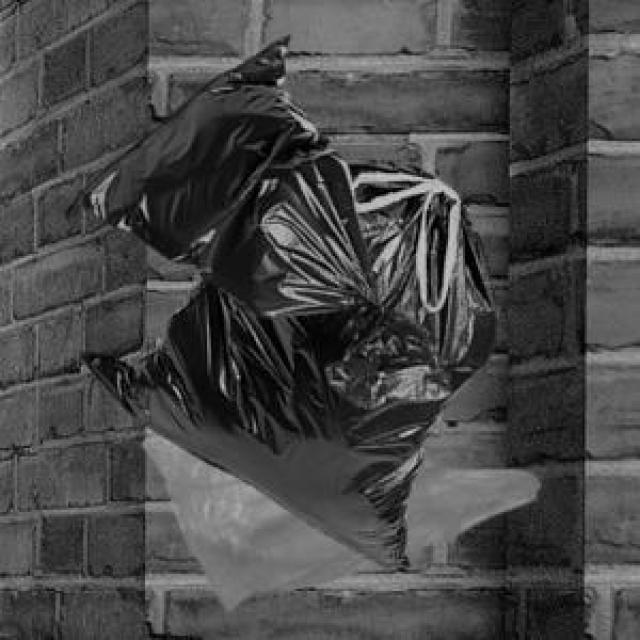miscellaneous trash: (77, 156, 495, 563), (60, 32, 446, 403)
